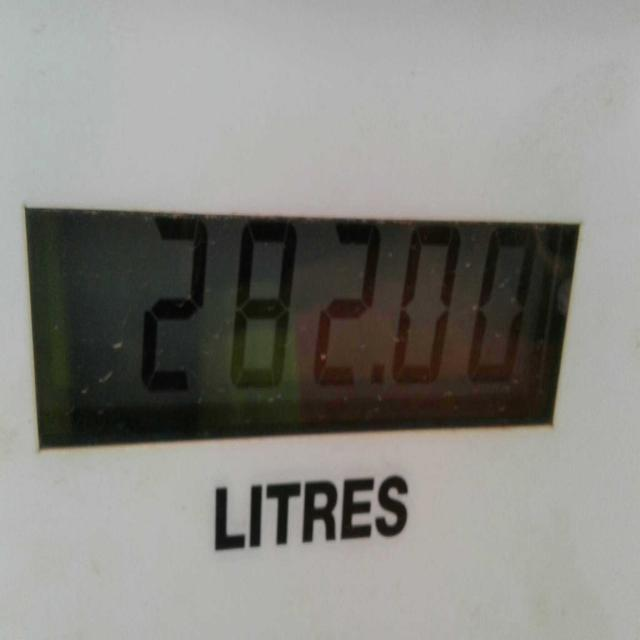.: (359, 358, 406, 405)
0: (390, 222, 464, 407), (466, 232, 547, 381)
2: (117, 220, 218, 414), (305, 201, 380, 415)
8: (227, 213, 305, 407)
